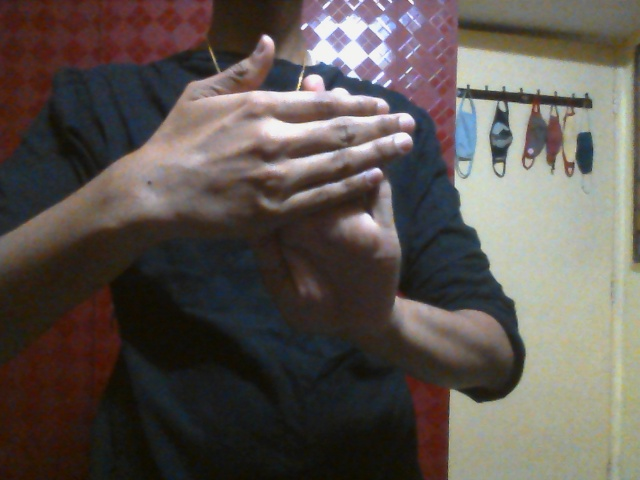H: (176, 34, 414, 336)
